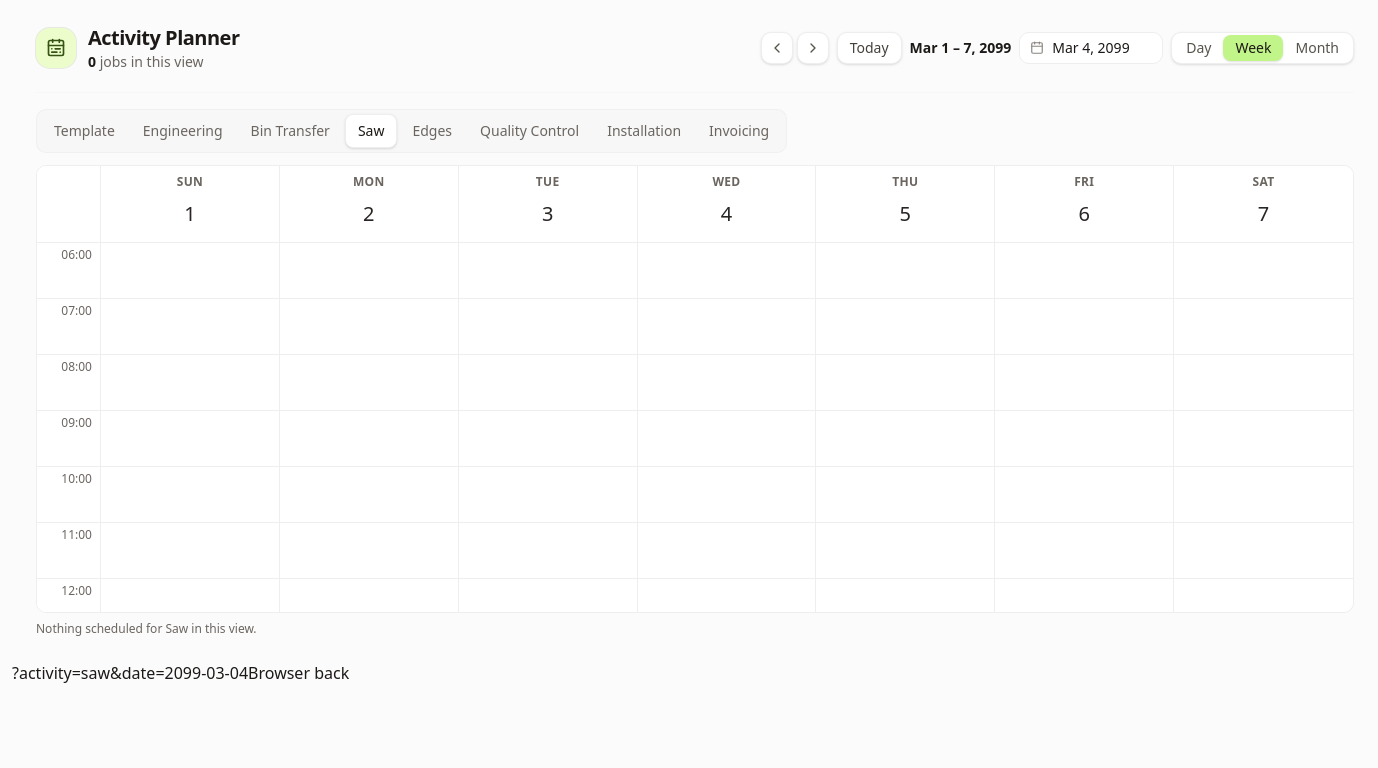
Test case: ActivityPlannerPage columns and navigation › opens a day from its week header: that date in the Day view, same activity
The width and height of the screenshot is (1378, 768).
(page scrolled)
Click the button with aria-label "Open Thu, Mar 5 in Day view" at coordinates (905, 204), box x1=873 y1=174 x2=937 y2=234
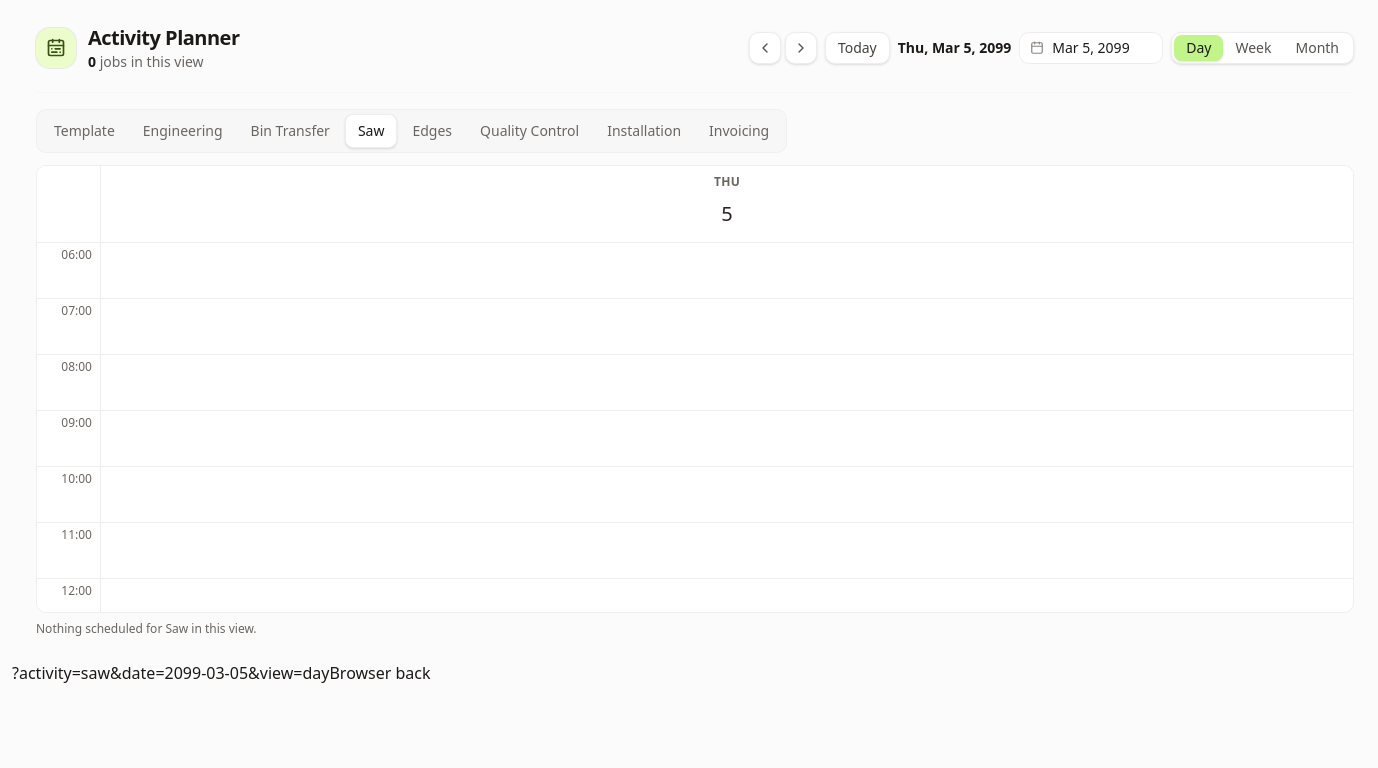
Check: the text with test id "search" shows "activity=saw", box x1=12 y1=662 x2=330 y2=684
Check: the text with test id "search" shows "view=day", box x1=12 y1=662 x2=330 y2=684
